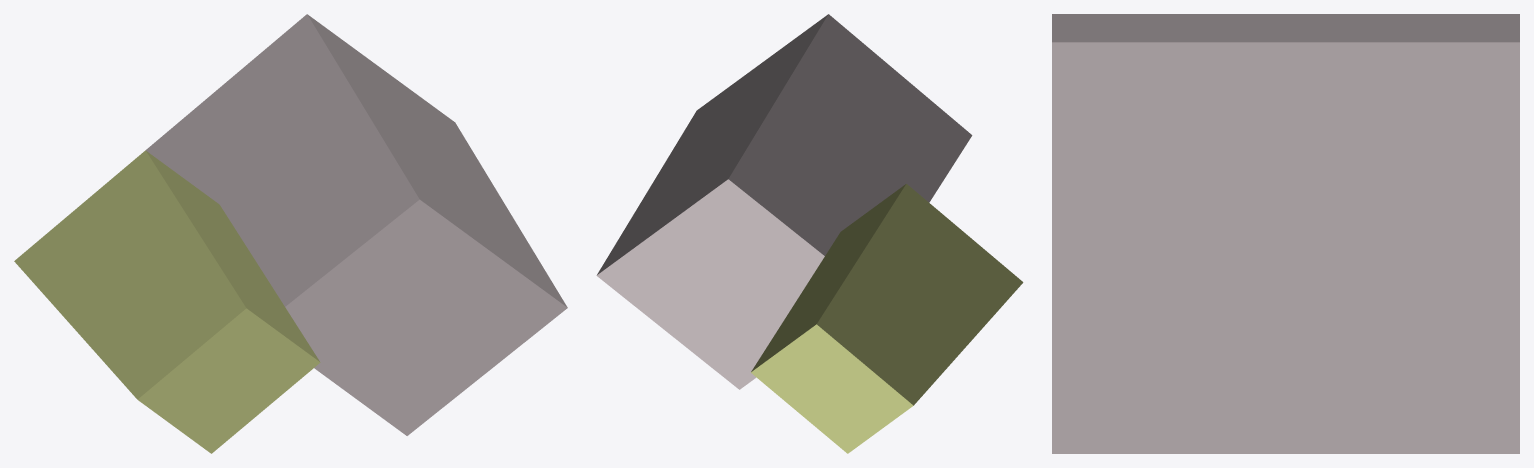
The picture shows the model from 3 angles, left to right: view 1: azimuth 30°, elevation 25°; view 2: azimuth 150°, elevation 25°; view 3: azimuth 270°, elevation 25°; orthographic projection. The views are drawn at different scales.
Visible parts, largest first — view 1: 0_0_1_1_2_3_1_0_0_1; view 2: 0_0_1_1_2_3_1_0_0_1; view 3: 0_0_1_1_2_3_1_0_0_1.
Boxes of the visible parts, x1=… form: 0_0_1_1_2_3_1_0_0_1: x1=14, y1=14, x2=567, y2=453; 0_0_1_1_2_3_1_0_0_1: x1=596, y1=14, x2=1023, y2=453; 0_0_1_1_2_3_1_0_0_1: x1=1052, y1=14, x2=1519, y2=453.
Size of the model in its own units: 18.97 by 15.39 by 12.
